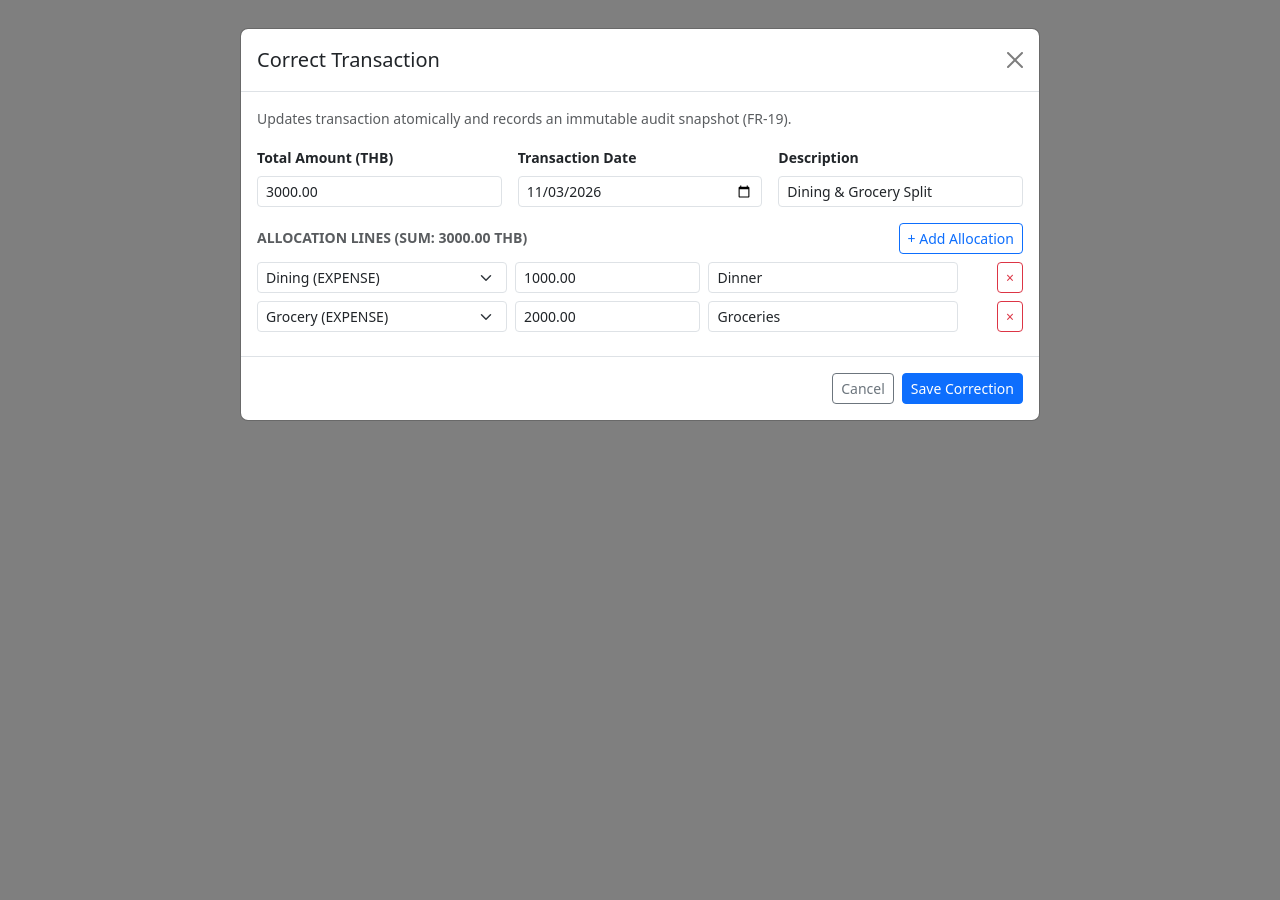
Scenario: Frontend TransactionCorrectionModal Suite (WP-11, Feature F-16, Task 3) › displays backend validation errors and network/server errors cleanly
The width and height of the screenshot is (1280, 900).
// Backend validation error
Click the button with test id "btn-save-correction": coordinates (962, 388) top-left (902, 373), bottom-right (1023, 404)
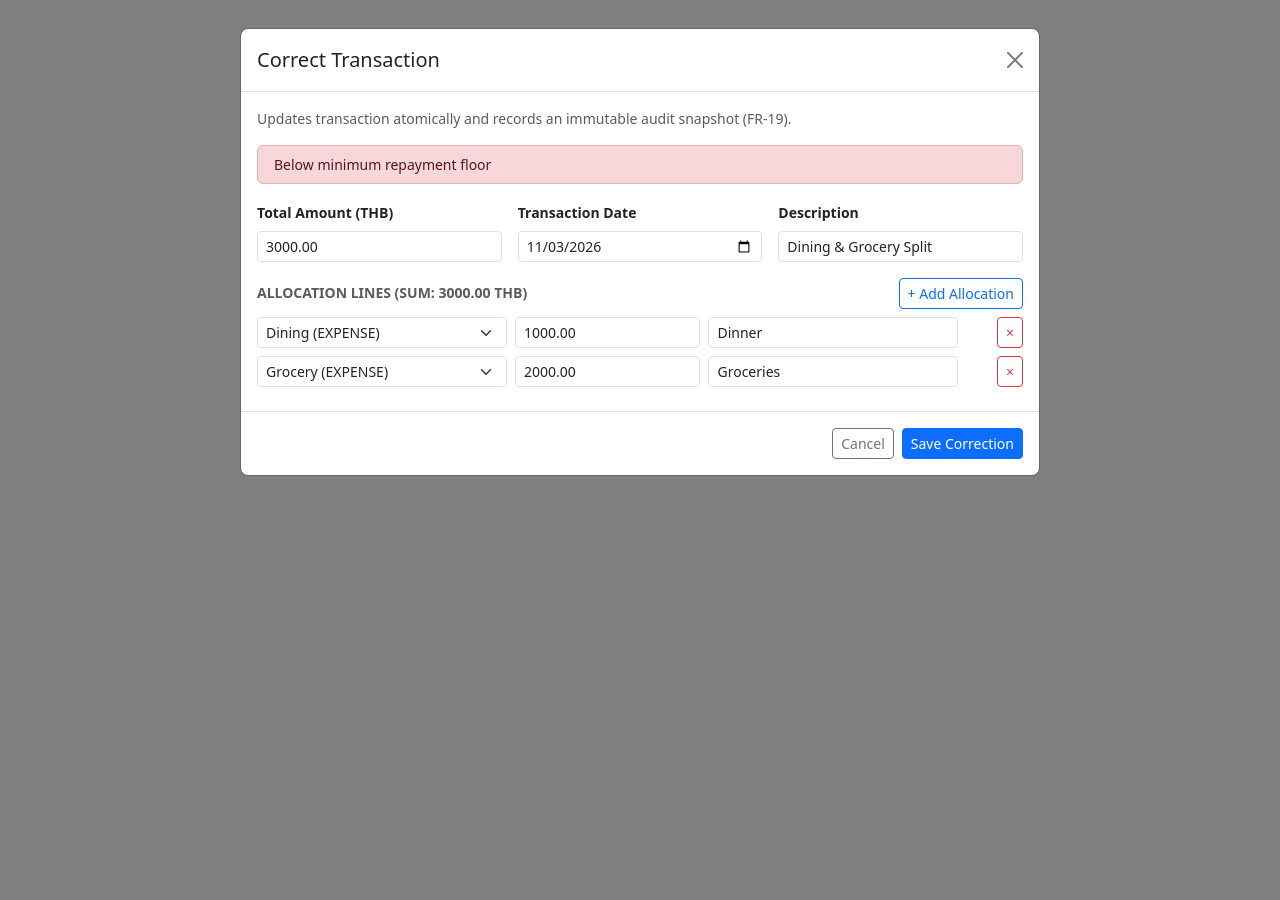
Now the message with test id "correction-error" reads "Below minimum repayment floor", box top-left (274, 155), bottom-right (491, 174)
// Network/server error
Click the button with test id "btn-save-correction": coordinates (962, 444) top-left (902, 428), bottom-right (1023, 459)
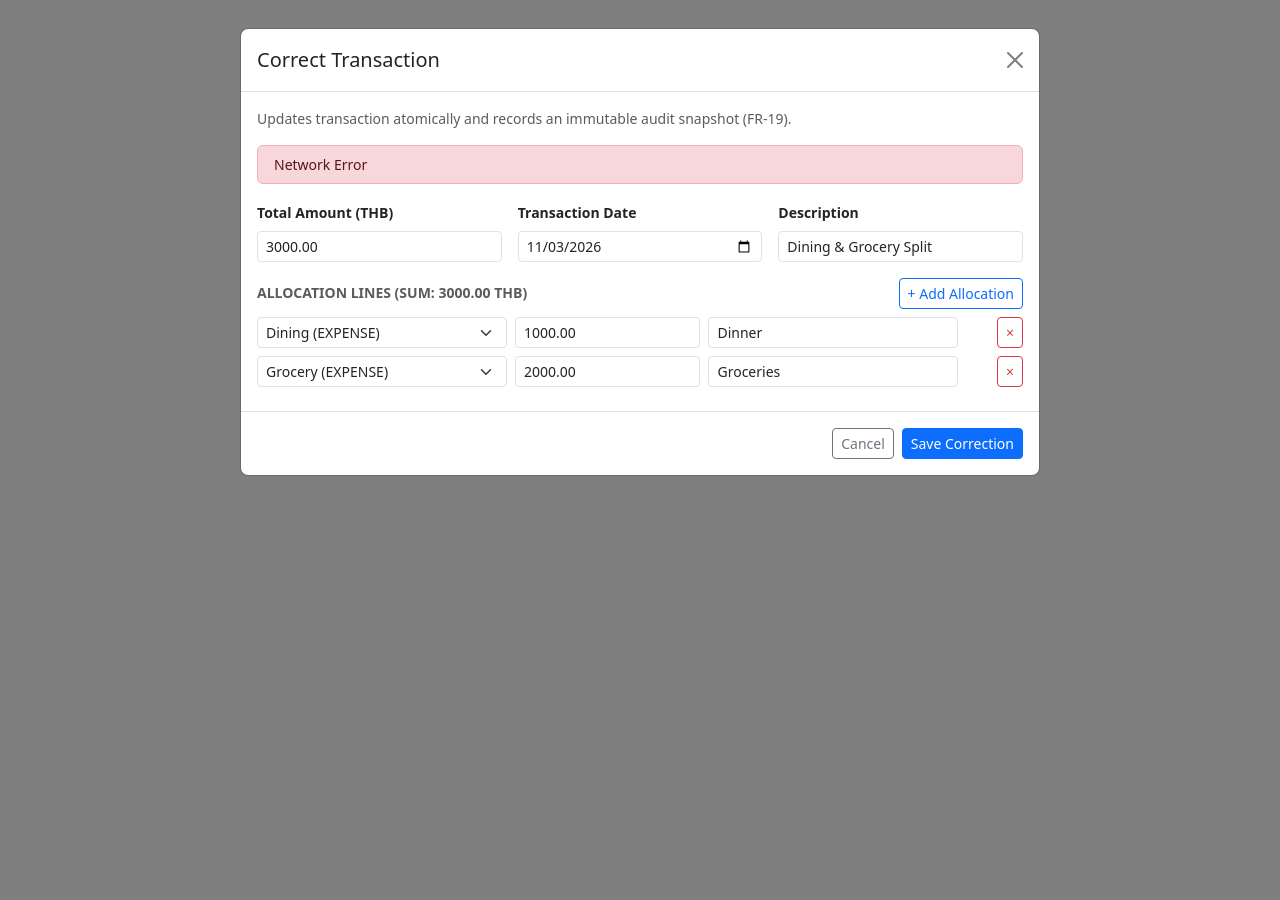
Now the message with test id "correction-error" reads "Network Error", box top-left (274, 155), bottom-right (367, 174)
